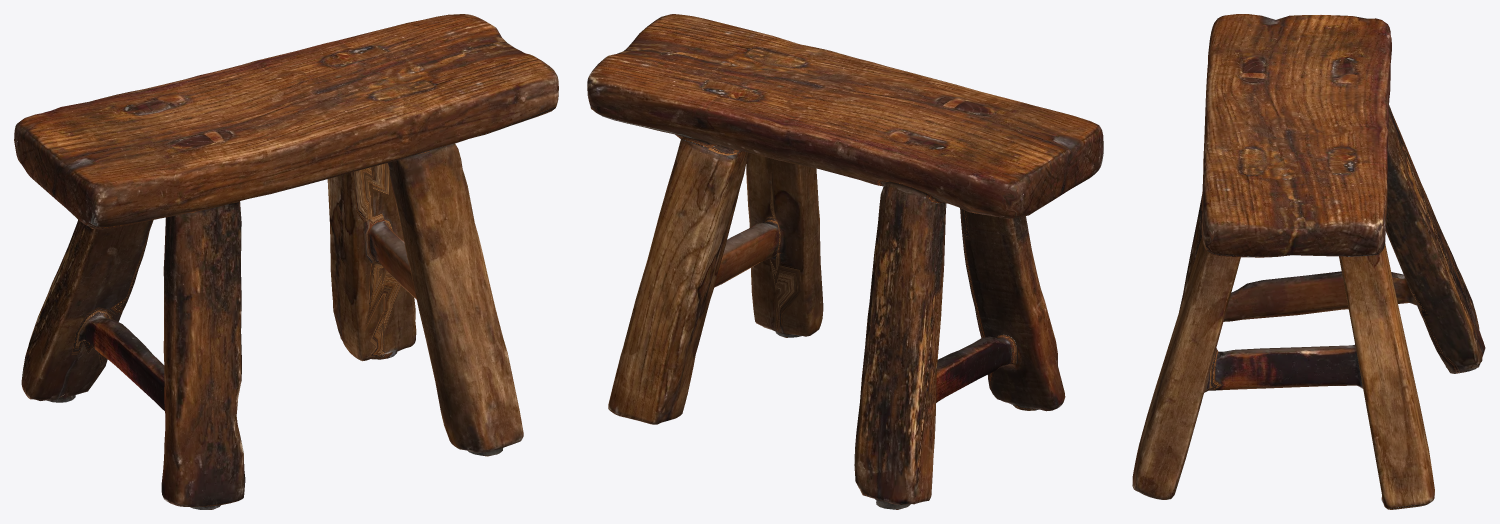
The model's file is wooden_stool_02.glb.
The picture shows the model from 3 angles, left to right: view 1: azimuth 30°, elevation 25°; view 2: azimuth 150°, elevation 25°; view 3: azimuth 270°, elevation 25°; orthographic projection. The views are drawn at different scales.
Visible parts, largest first — view 1: wooden_stool_02; view 2: wooden_stool_02; view 3: wooden_stool_02.
Boxes of the visible parts, <box> form: wooden_stool_02: <box>14,14,558,509</box>; wooden_stool_02: <box>587,14,1103,509</box>; wooden_stool_02: <box>1132,14,1485,509</box>.
Size of the model in its own units: 0.2652 by 0.1819 by 0.1831.
Materials: 1 (1 with a texture image).
